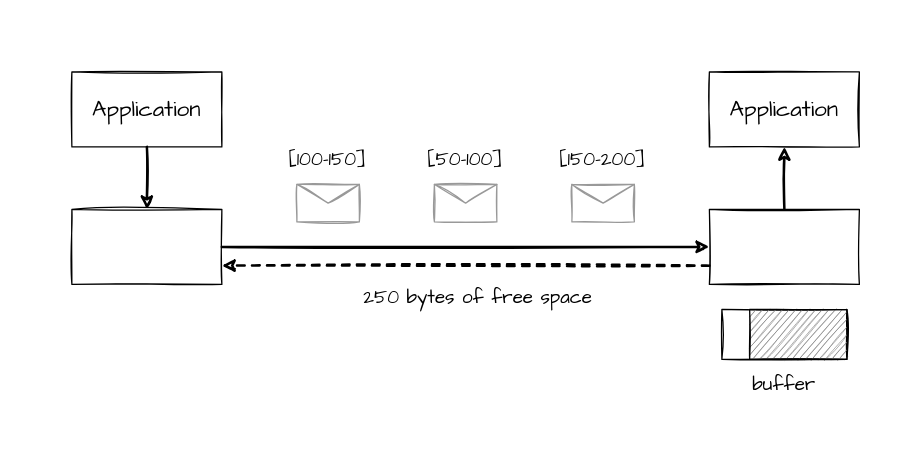
Image size: 918x468. Some labels were removed from this diagram. The centre of each missing label's shape, as x and y in pixels:
TCP receiver: the point at 783,246
TCP sender: the point at 146,246
